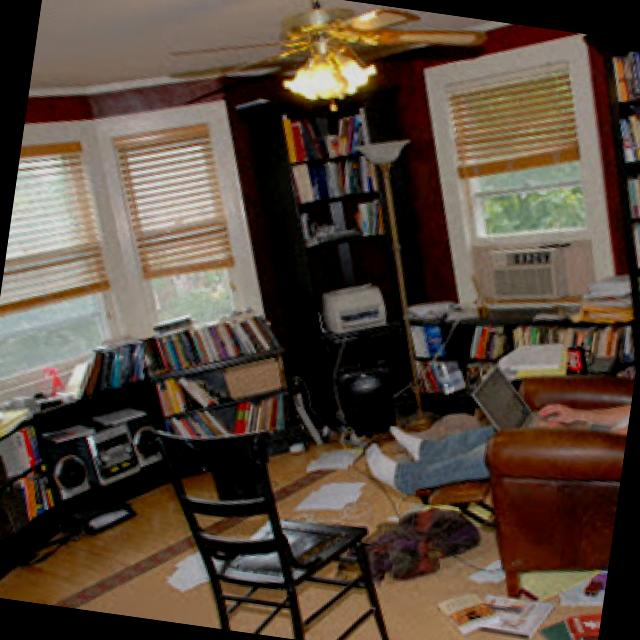mess: (26, 329, 316, 454), (413, 542, 608, 640), (246, 408, 381, 549), (140, 546, 214, 612)
